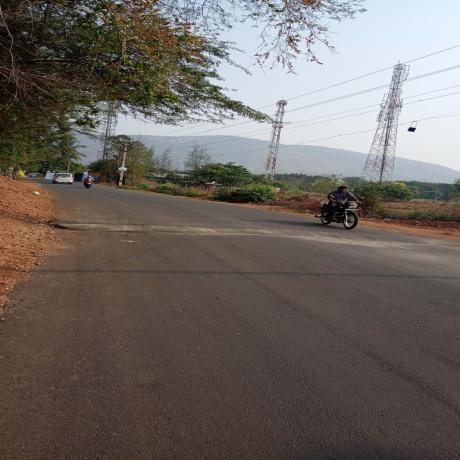Speed Bump: (51, 223, 457, 246)
